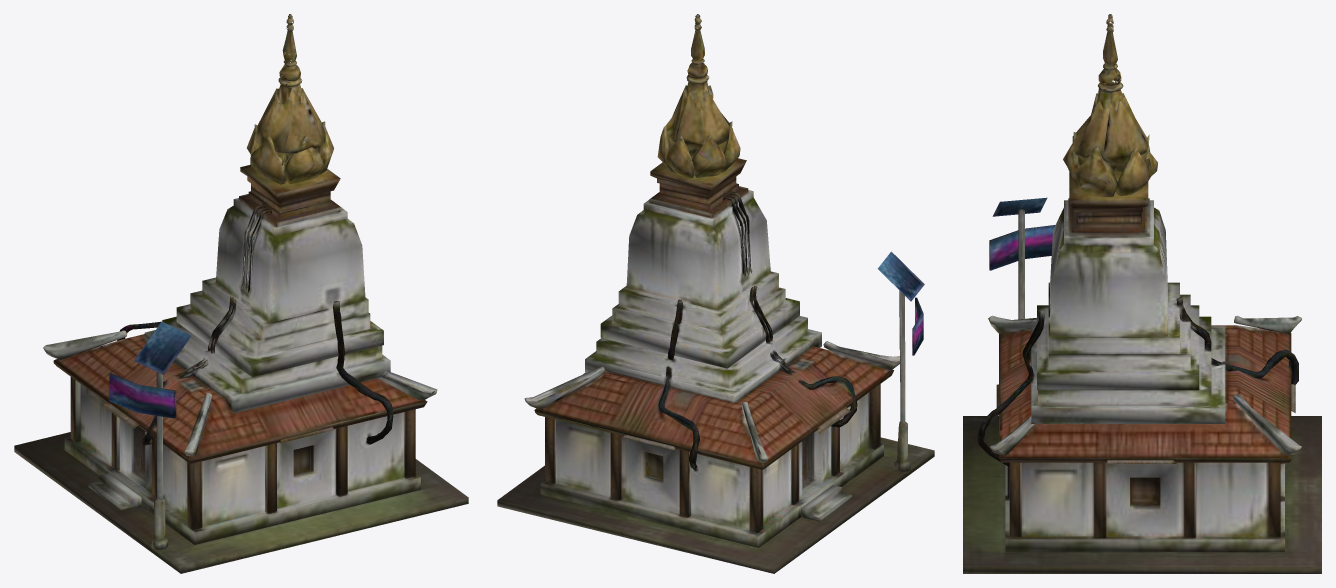
Rendered from lao_that.glb.
The picture shows the model from 3 angles, left to right: view 1: azimuth 30°, elevation 25°; view 2: azimuth 150°, elevation 25°; view 3: azimuth 270°, elevation 25°; orthographic projection. The views are drawn at different scales.
Parts seen in each view (by area): view 1: Body; view 2: Body; view 3: Body.
Part boxes in pixels (x1,y1,x2,y2): Body: (14,14,468,573); Body: (497,14,934,573); Body: (963,14,1321,573).
Bounding box in the file's own units: 12.65 × 18 × 11.66.
2 materials, 2 textured.
